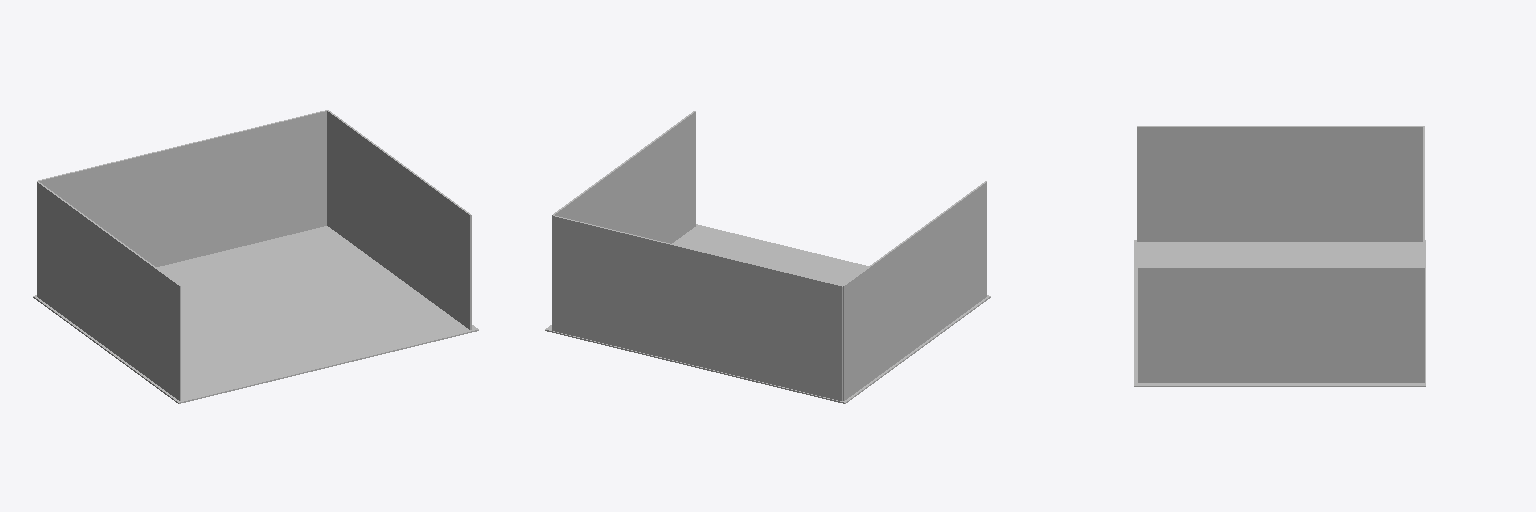
File: Interior1DePrueba 1.obj
The picture shows the model from 3 angles: view 1: azimuth 30°, elevation 25°; view 2: azimuth 150°, elevation 25°; view 3: azimuth 270°, elevation 25°; orthographic projection.
Parts seen in each view (by area): view 1: polySurface1 interior1, interior1 polySurface5, interior1 polySurface4, interior1 polySurface3; view 2: interior1 polySurface5, interior1 polySurface3, interior1 polySurface4, polySurface1 interior1; view 3: interior1 polySurface3, interior1 polySurface4, polySurface1 interior1.
Part boxes in pixels (left/top/right/bottom): polySurface1 interior1: left=33, top=226, right=478, bottom=403; interior1 polySurface5: left=38, top=110, right=326, bottom=266; interior1 polySurface4: left=327, top=110, right=471, bottom=329; interior1 polySurface3: left=37, top=181, right=180, bottom=400; interior1 polySurface5: left=552, top=215, right=842, bottom=400; interior1 polySurface3: left=843, top=181, right=986, bottom=400; interior1 polySurface4: left=552, top=111, right=695, bottom=243; polySurface1 interior1: left=545, top=224, right=990, bottom=403; interior1 polySurface3: left=1137, top=126, right=1422, bottom=241; interior1 polySurface4: left=1138, top=268, right=1422, bottom=382; polySurface1 interior1: left=1134, top=240, right=1425, bottom=386.
Bounding box in the file's own units: 36.03 × 13.32 × 30.29.